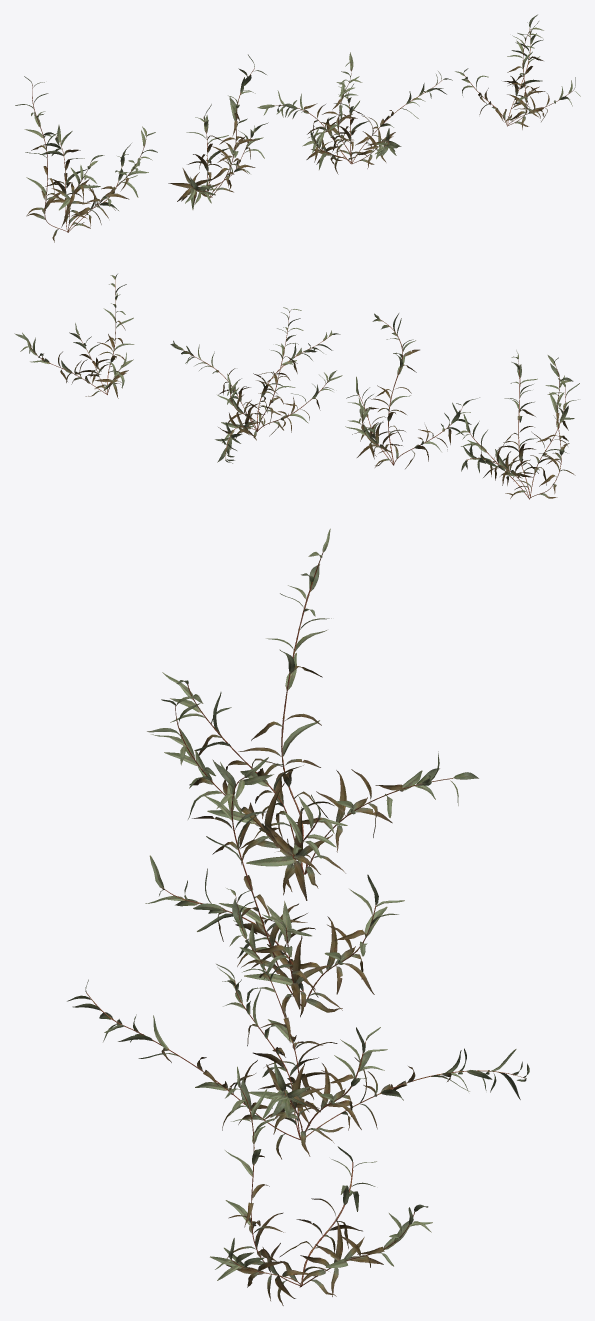
Rendered from shrub_02.gltf.
3 renders of one model, top to bottom at view 1: azimuth 30°, elevation 25°; view 2: azimuth 150°, elevation 25°; view 3: azimuth 270°, elevation 25°, orthographic. The views are drawn at different scales.
Parts seen in each view (by area): view 1: shrub_02_c, shrub_02_a, shrub_02_b, shrub_02_d; view 2: shrub_02_a, shrub_02_c, shrub_02_b, shrub_02_d; view 3: shrub_02_a, shrub_02_c, shrub_02_b, shrub_02_d.
Part boxes in pixels (x1,y1,x2,y2): shrub_02_c: (257,52,452,174); shrub_02_a: (15,76,157,242); shrub_02_b: (168,54,268,209); shrub_02_d: (455,14,580,129); shrub_02_a: (456,350,579,499); shrub_02_c: (170,307,342,463); shrub_02_b: (345,313,479,468); shrub_02_d: (14,274,134,398); shrub_02_a: (147,528,478,900); shrub_02_c: (67,888,529,1159); shrub_02_b: (145,757,404,1018); shrub_02_d: (210,1066,432,1305).
Size of the model in its own units: 6.05 by 1.7 by 2.29.
1 material, 1 textured.
